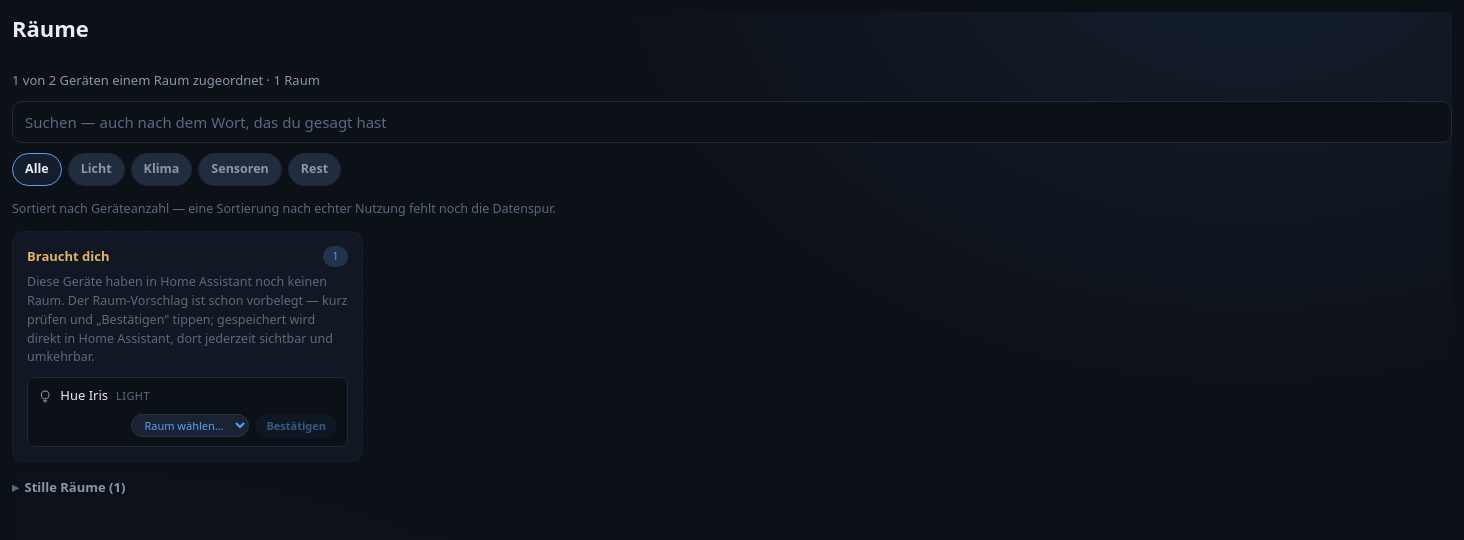
Scenario: RaeumeViewLive — Zuordnungs-Flow (PUT → Reload → Karte wandert) › Fehler beim Schreiben ⇒ ehrliche Meldung, Gerät bleibt unassigned
Select "Wohnzimmer" in the dropdown with class "inbox__select" at coordinates (190, 426), box [131, 414, 249, 437]
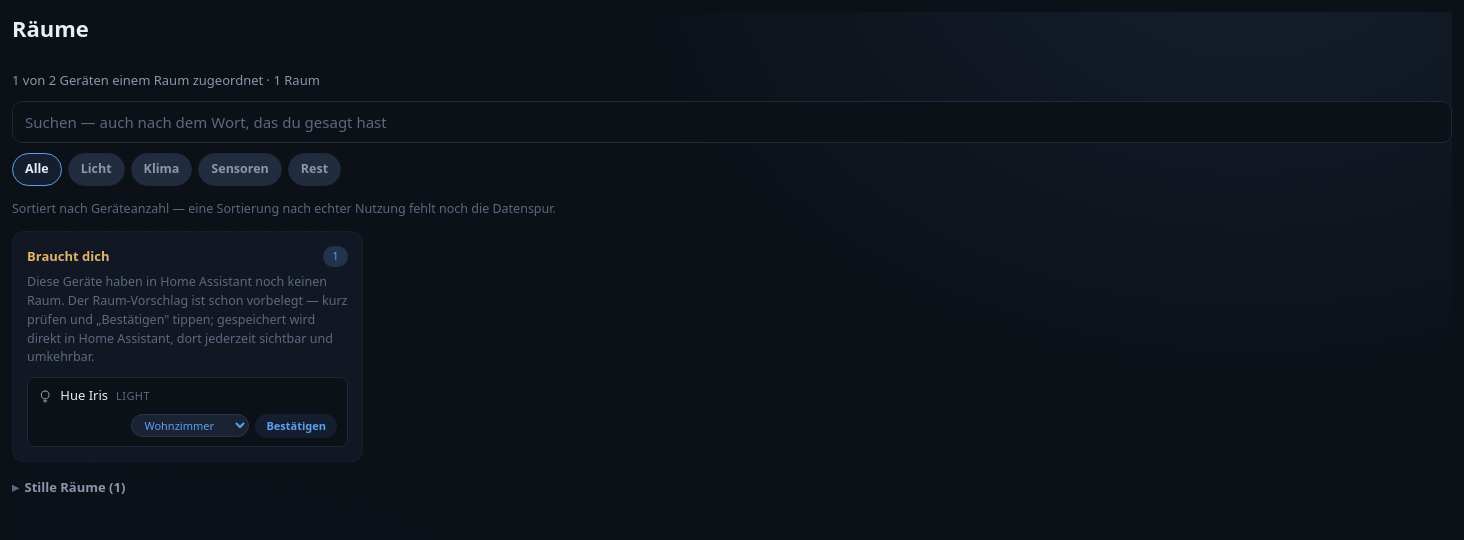
Click the button with class "inbox__confirm" at coordinates (296, 426), box [255, 414, 337, 438]
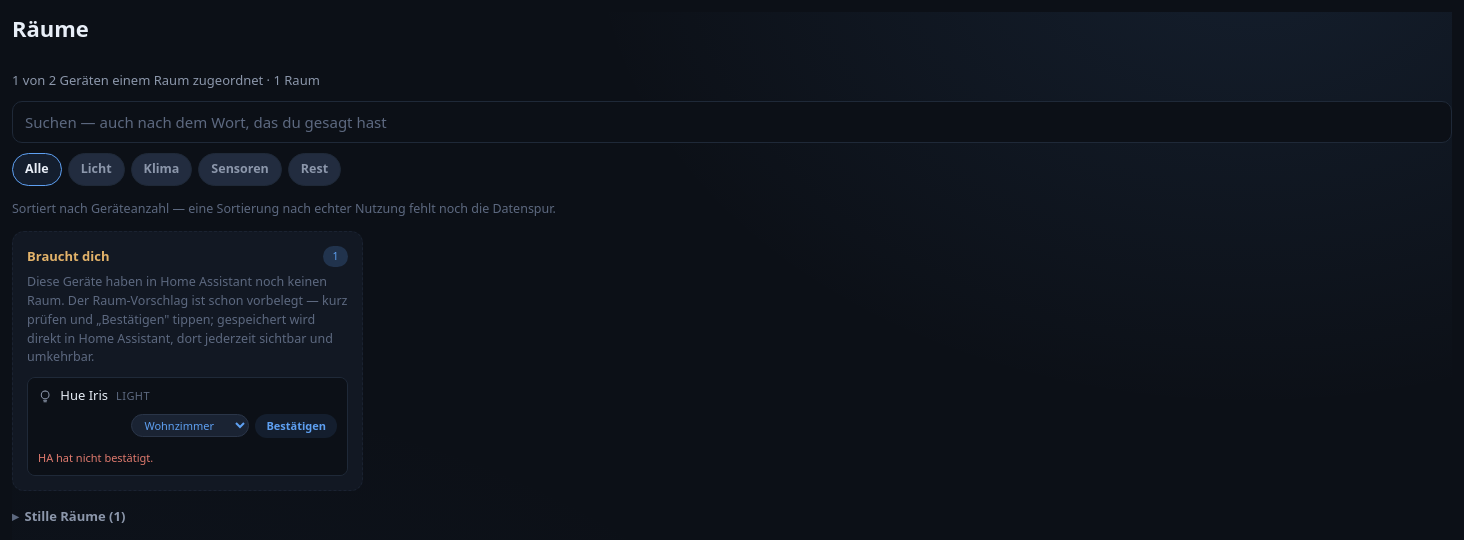
Now the text "HA hat nicht bestätigt." is shown, box [38, 450, 153, 465]
